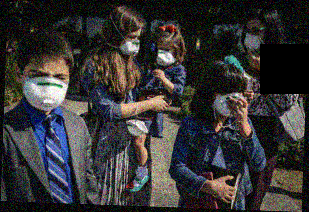with_mask: (20, 66, 69, 112), (212, 89, 243, 119), (241, 24, 266, 54), (117, 31, 140, 58), (155, 45, 175, 67)
